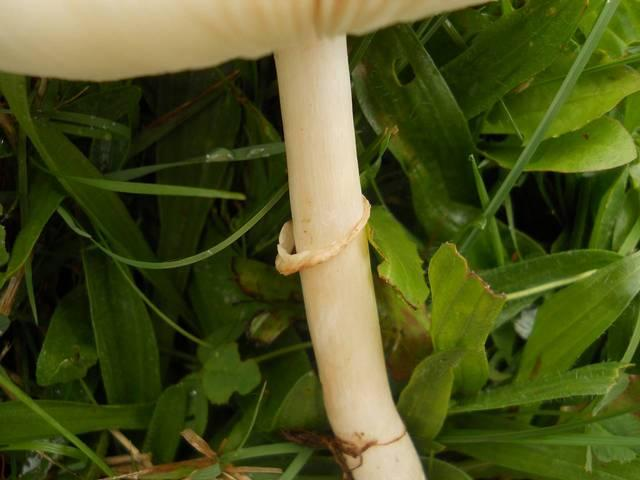Non-edible Mushroom: (0, 0, 500, 479)
